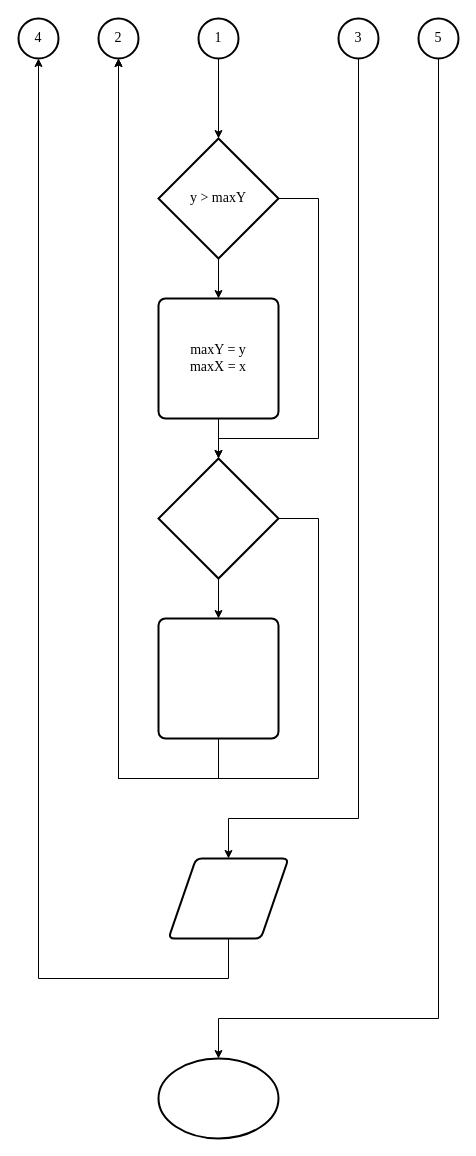
Some shapes in this 476 by 1156 pixel diagram are drawn without their labels. Here are the shapes that lost their labels. From the top down, the centre of each, then its label:
At (x=218, y=518): "y < minY".
At (x=218, y=678): "minY = y minX = x".
At (x=228, y=898): "output: maxY, maxX minY, minX".
At (x=218, y=1098): "end".
